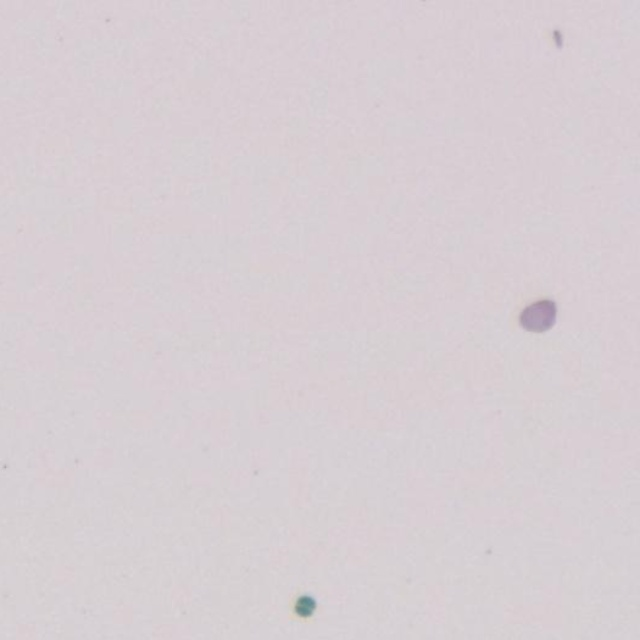intermediate: (519, 299, 556, 332)
non_viable: (294, 595, 316, 617)
